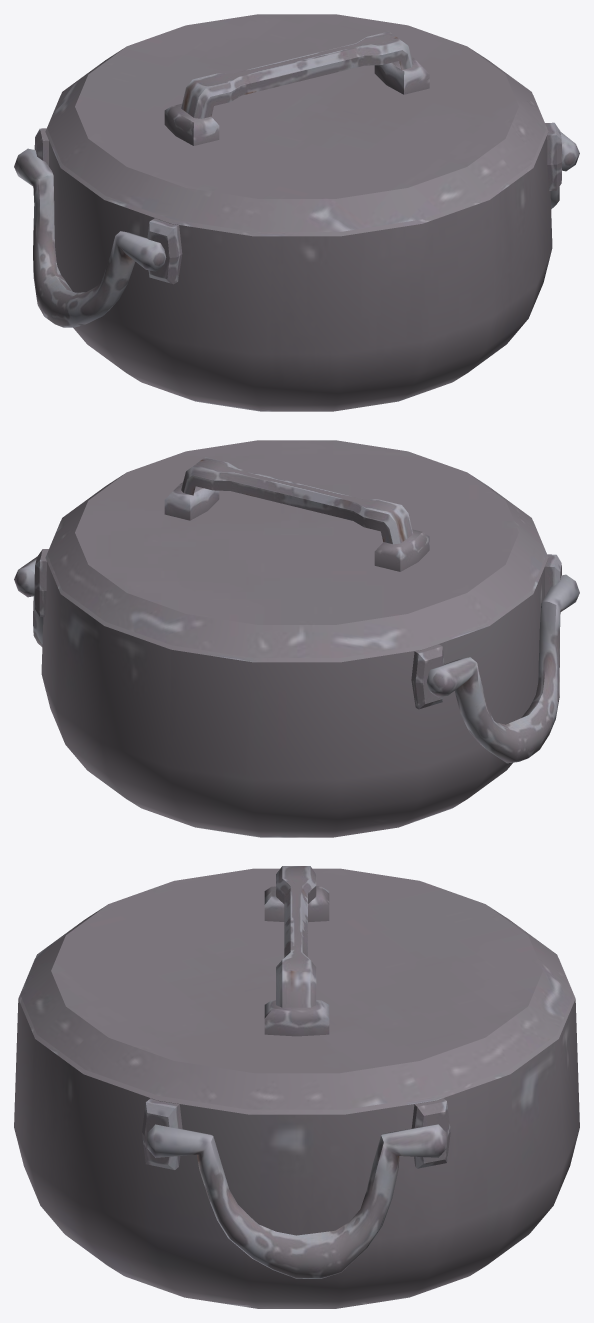
The model's file is Pot_1_Lid.gltf.
The picture shows the model from 3 angles, top to bottom: view 1: azimuth 30°, elevation 25°; view 2: azimuth 150°, elevation 25°; view 3: azimuth 270°, elevation 25°; orthographic projection. The views are drawn at different scales.
Parts seen in each view (by area): view 1: Pot_1_Lid; view 2: Pot_1_Lid; view 3: Pot_1_Lid.
Boxes of the visible parts, x1,y1,x2,y2 form: Pot_1_Lid: (14, 14, 579, 411); Pot_1_Lid: (14, 440, 579, 837); Pot_1_Lid: (14, 866, 579, 1308).
Size of the model in its own units: 0.5393 by 0.2805 by 0.486.
1 material, 1 textured.
